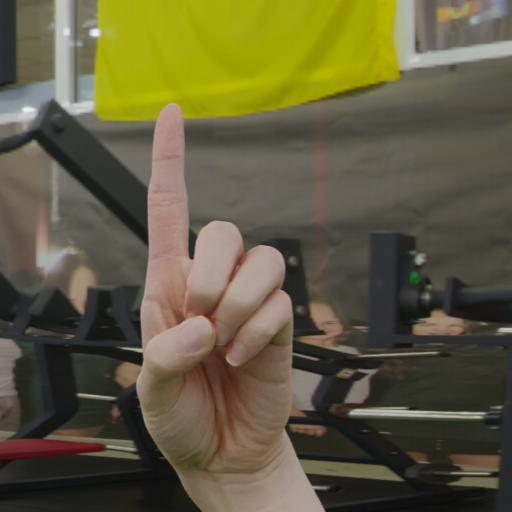D: (138, 96, 298, 492)
